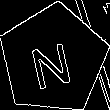N_N: (29, 30, 78, 89)
